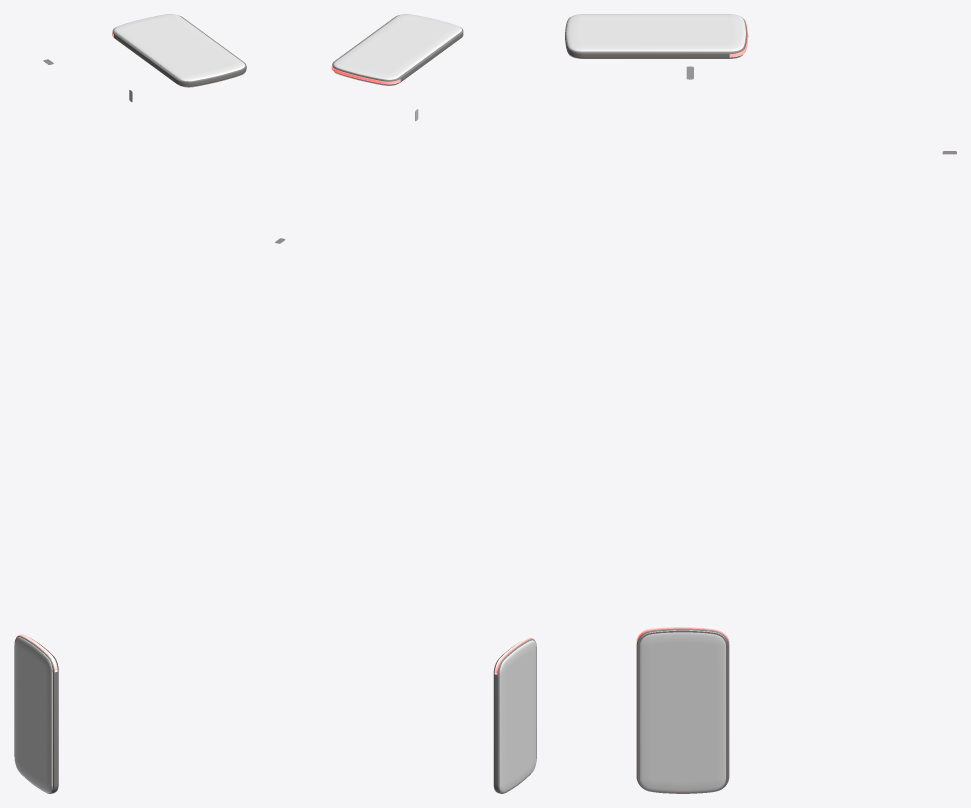
The model's file is GALAXY S3 NEO.glb.
3 renders of one model, left to right at view 1: azimuth 30°, elevation 25°; view 2: azimuth 150°, elevation 25°; view 3: azimuth 270°, elevation 25°, orthographic. The views are drawn at different scales.
Parts seen in each view (by area): view 1: cuerpo.003, cristal fontral, cuerpo; view 2: cuerpo.003, cristal fontral, cuerpo; view 3: cristal trasero, cuerpo.003, cuerpo, distintivo trasero.
Boxes of the visible parts, <box> form: cuerpo.003: <box>43,14,246,87</box>; cristal fontral: <box>14,637,52,793</box>; cuerpo: <box>14,636,58,793</box>; cuerpo.003: <box>275,14,463,243</box>; cristal fontral: <box>499,640,536,793</box>; cuerpo: <box>494,639,536,793</box>; cristal trasero: <box>639,630,726,792</box>; cuerpo.003: <box>565,14,956,154</box>; cuerpo: <box>636,628,729,793</box>; distintivo trasero: <box>639,630,726,793</box>.
Size of the model in its own units: 19.55 by 78.58 by 33.36.
7 materials, 3 textured.
